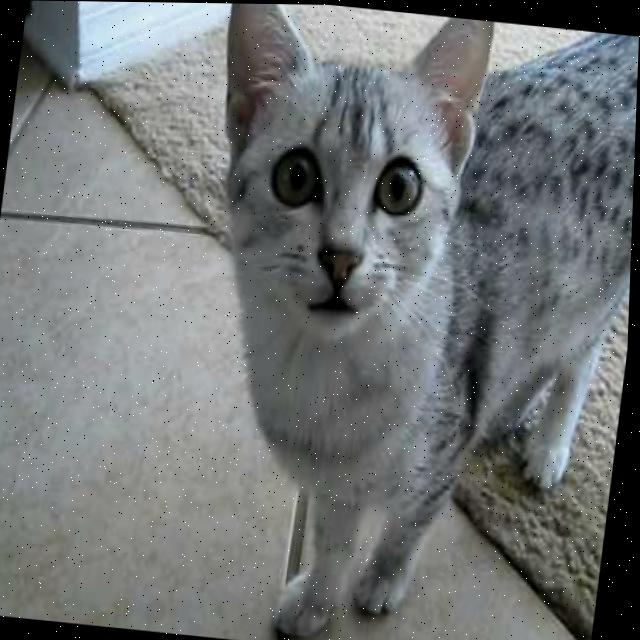Egyptian Mau: (151, 2, 640, 640)
